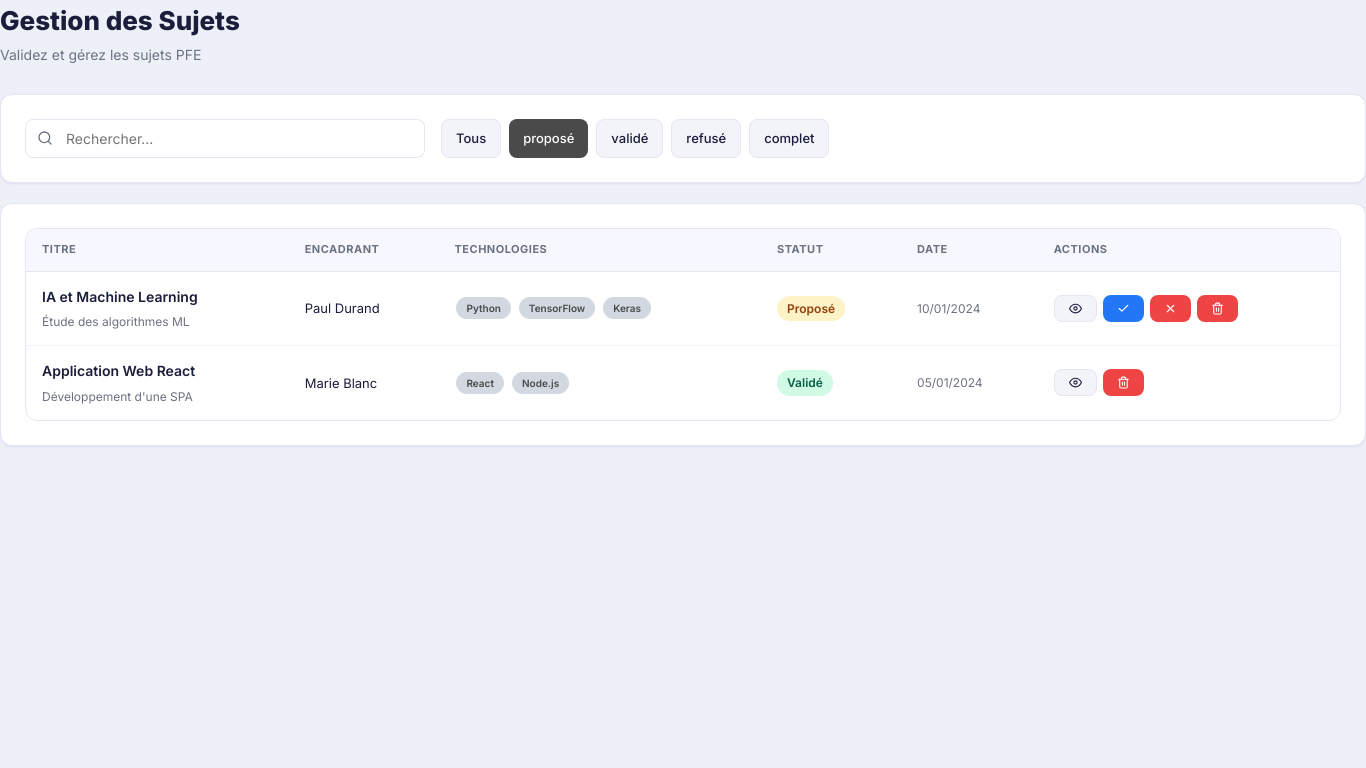
Test: AdminSubjectsPage › ferme la modale au clic sur Annuler
Expected: the text "IA et Machine Learning" is shown, [42, 288, 198, 305]
Click the 1st button with class "btn-danger" at (1170, 308), box [1150, 295, 1191, 322]
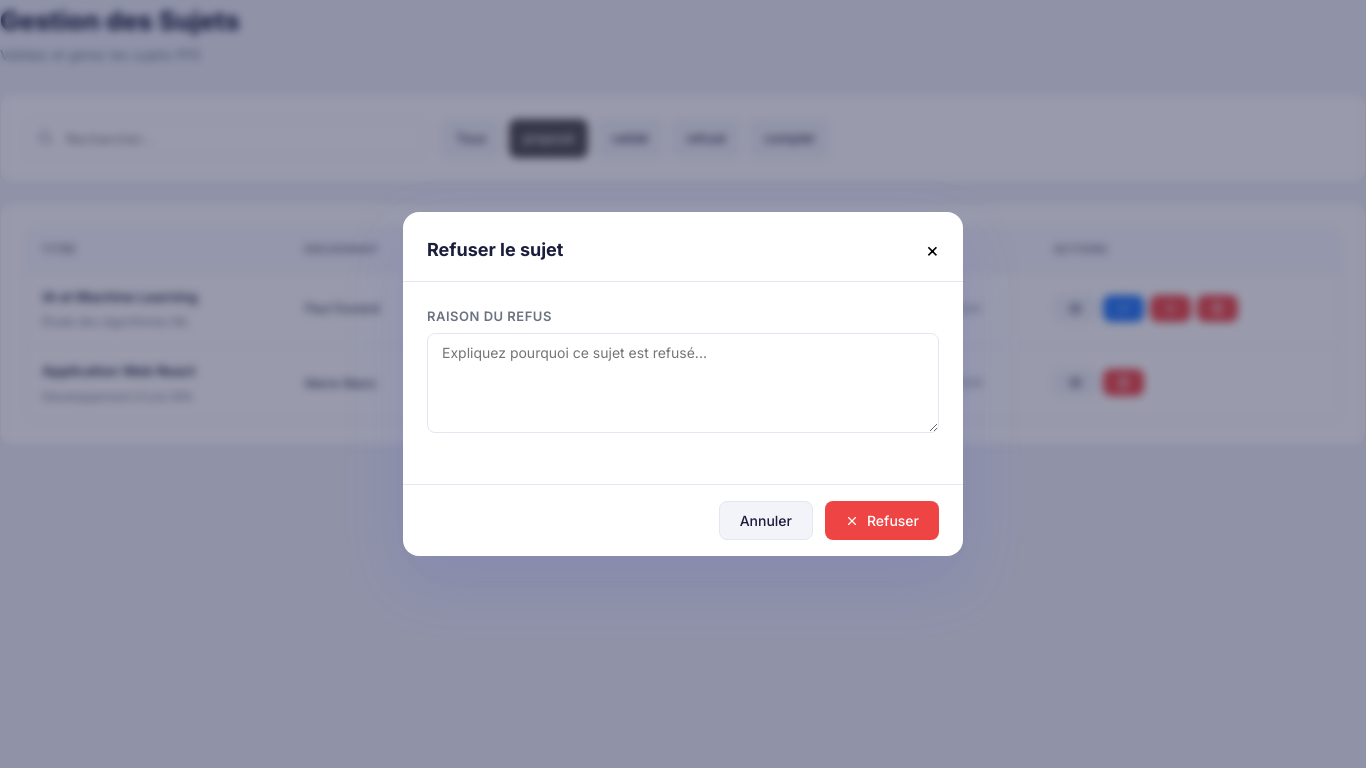
Expected: the heading "Refuser le sujet" is shown, [427, 236, 563, 265]
Click the button "Annuler" at (766, 521), box [719, 501, 813, 540]
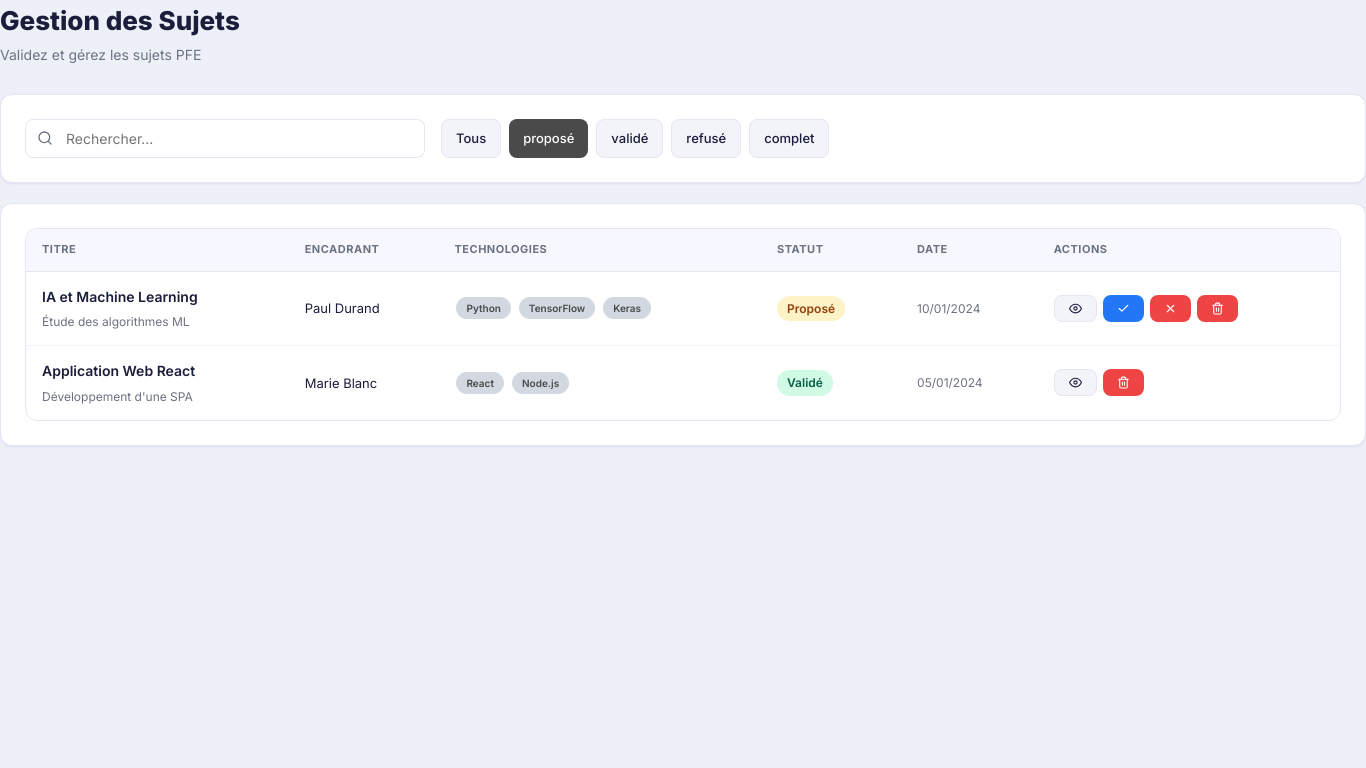
Expected: the heading "Refuser le sujet" is gone
